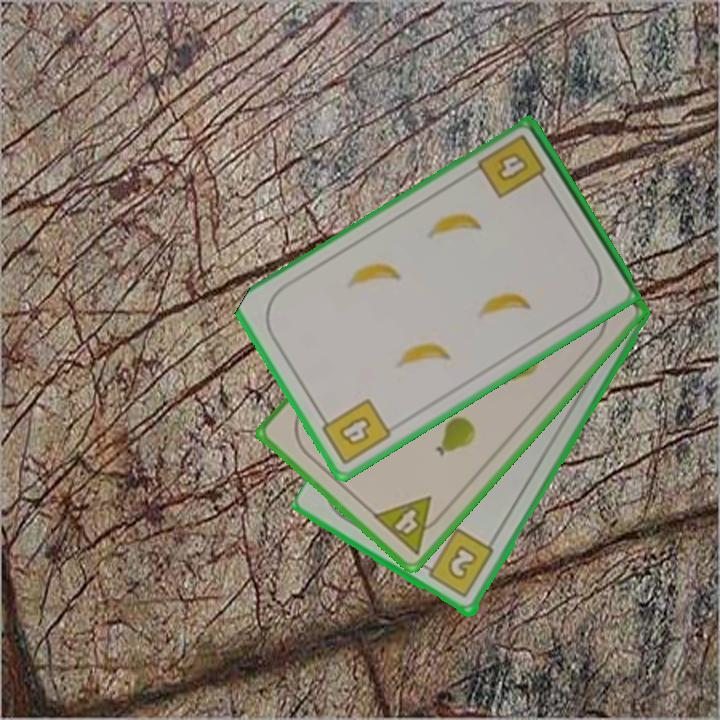2b: (418, 526, 497, 601)
4b: (315, 395, 394, 468), (474, 131, 553, 202)
4p: (369, 492, 450, 559)
